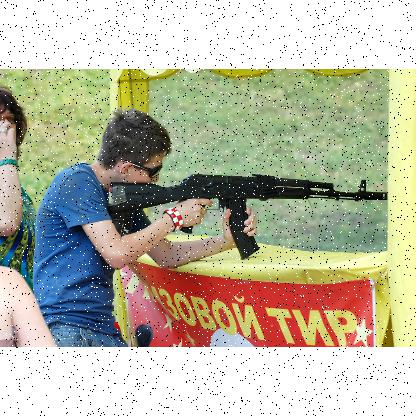gun: (110, 174, 386, 257)
